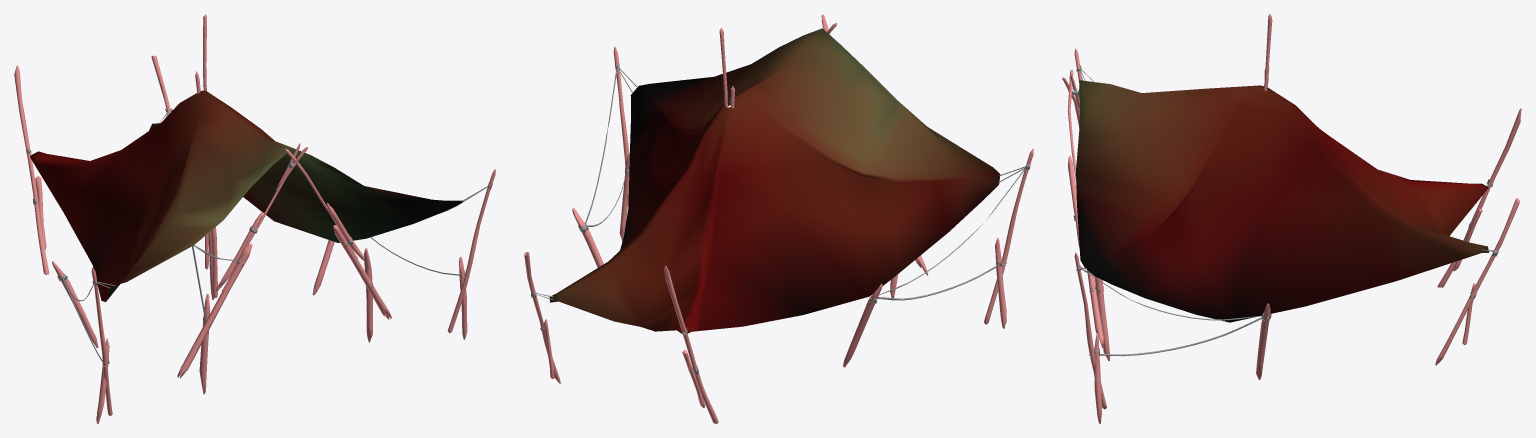
Rendered from wooden_village_tent_big_A.gltf.
3 views of the same model, side by side, from view 1: azimuth 30°, elevation 25°; view 2: azimuth 150°, elevation 25°; view 3: azimuth 270°, elevation 25° (orthographic). The views are drawn at different scales.
Parts seen in each view (by area): view 1: wooden_village_tent_big_A; view 2: wooden_village_tent_big_A; view 3: wooden_village_tent_big_A.
Part boxes in pixels (box(x1,y1,x2,y2)): wooden_village_tent_big_A: box(14, 14, 495, 423); wooden_village_tent_big_A: box(524, 14, 1033, 423); wooden_village_tent_big_A: box(1062, 14, 1521, 423).
Bounding box in the file's own units: 7.65 × 5.59 × 7.26.
